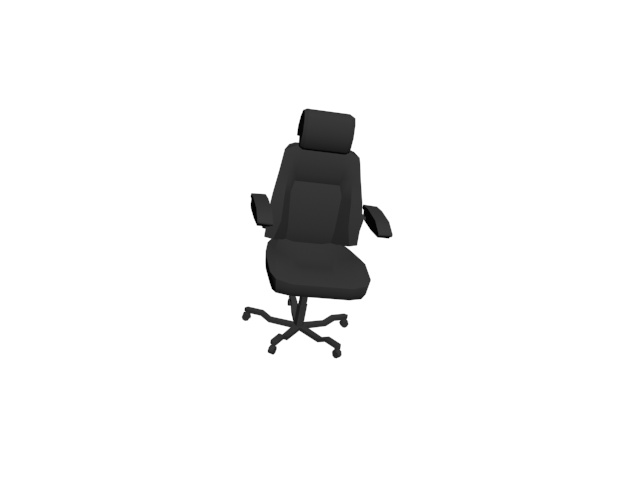desk_chair: (241, 105, 400, 360)
